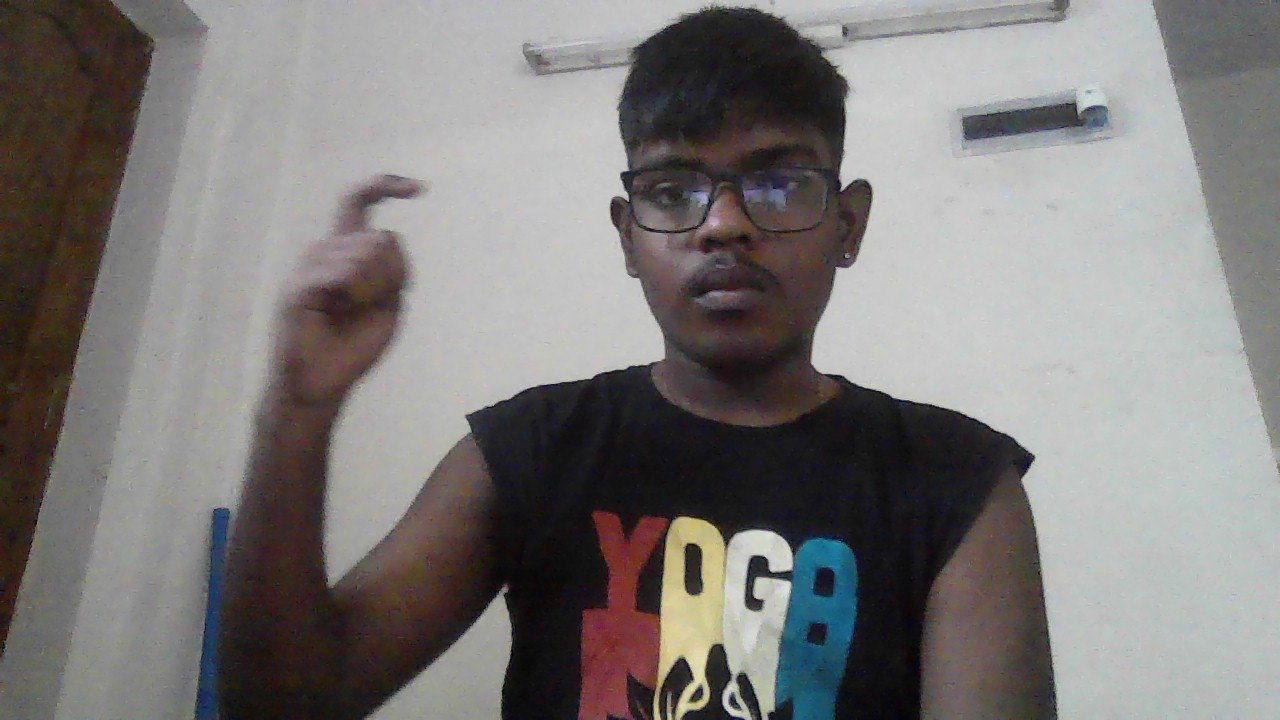X: (270, 173, 423, 407)
